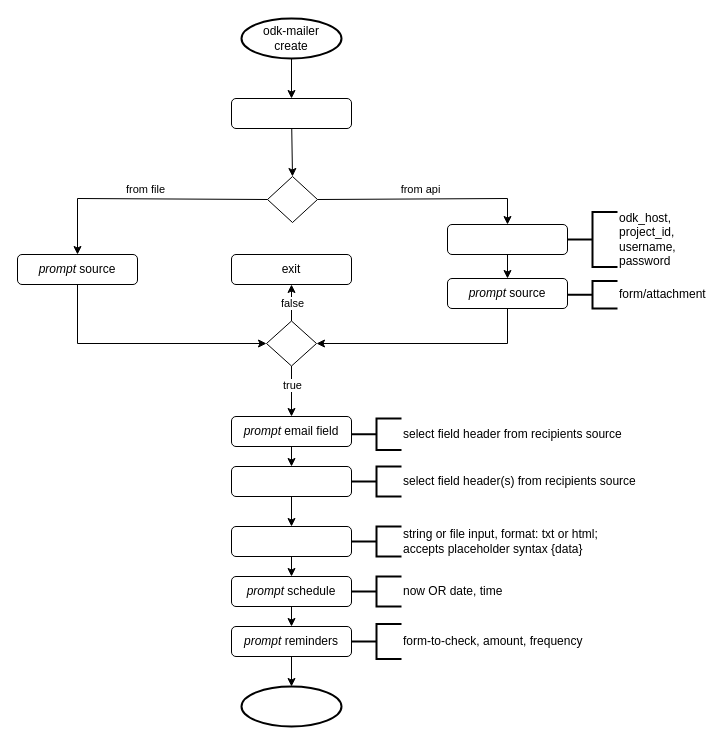
This 724x744 diagram has some shape labels left out. Here are the shapes that lost their labels. From the top down, the box of each, then its label:
(230, 98, 352, 128): prompt type
(266, 176, 318, 222): type
(446, 224, 568, 254): prompt credentials
(266, 320, 316, 366): valid?
(230, 466, 352, 496): prompt data fields
(230, 526, 352, 556): prompt message
(240, 685, 342, 727): new mail job
